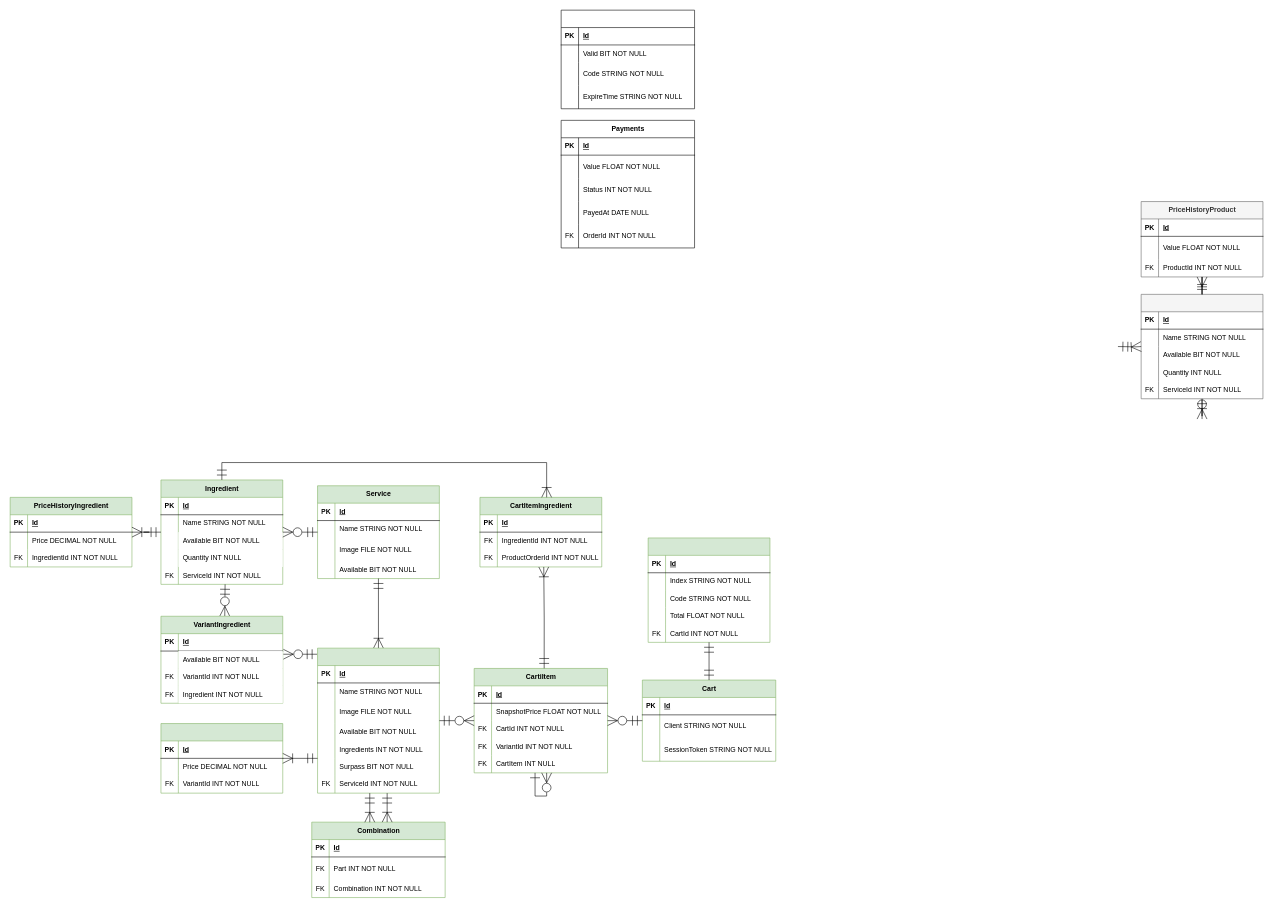
This 1273x908 diagram has some shape labels left out. The box of each missing label's shape, as (x1, y1, x2, y2) in pixels:
Order: (648, 537, 770, 642)
PriceHistoryVariant: (160, 723, 283, 793)
Product: (1141, 294, 1263, 399)
Token: (561, 10, 695, 109)
Variant: (317, 648, 439, 793)
